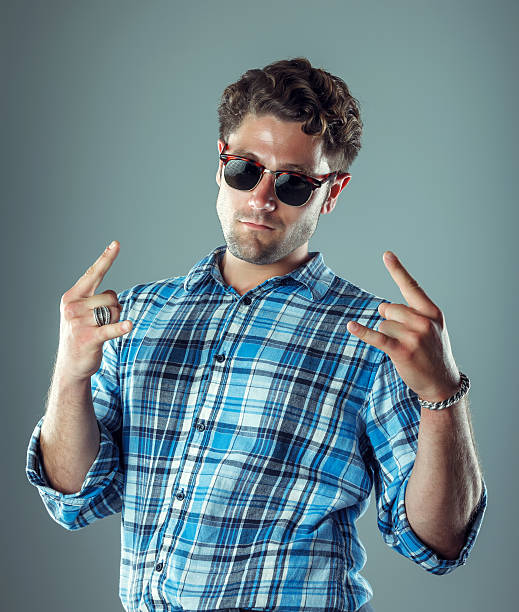Rock On: (339, 243, 473, 385)
